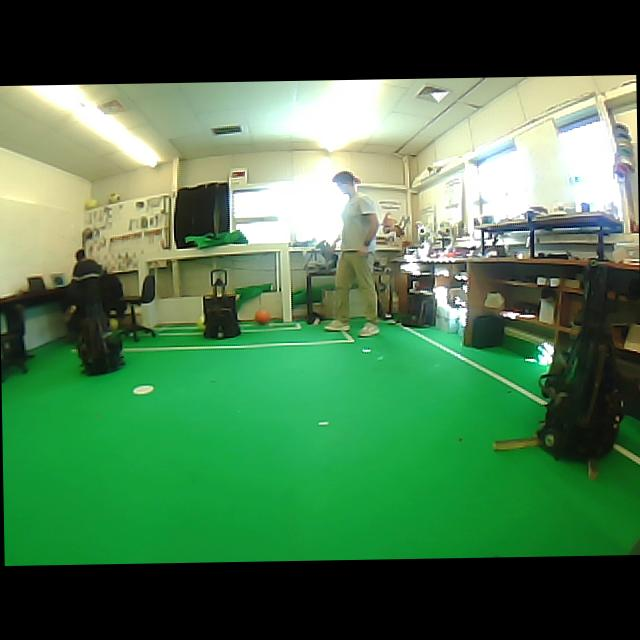ball: (254, 309, 270, 323), (84, 198, 98, 208), (108, 192, 119, 203), (109, 317, 118, 329)
goal: (279, 244, 291, 322)
robot: (537, 261, 623, 458), (78, 316, 124, 373), (203, 269, 239, 338)
